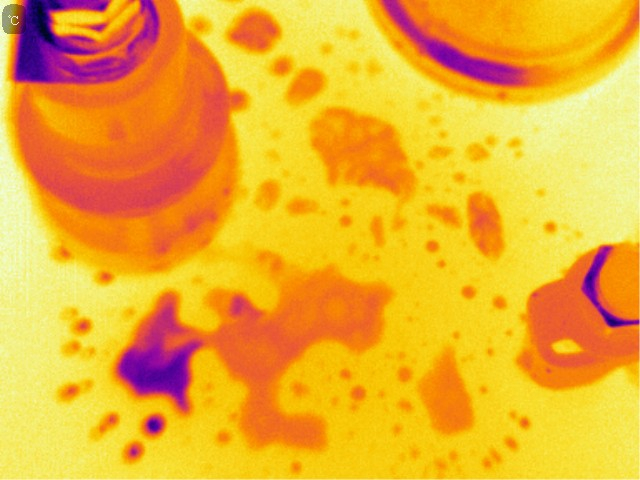Water: (112, 240, 398, 453), (312, 107, 417, 199), (417, 346, 477, 443), (54, 307, 89, 407), (462, 121, 526, 167), (465, 191, 507, 254), (270, 58, 327, 100), (429, 138, 470, 184), (317, 21, 369, 56), (229, 13, 277, 50), (540, 210, 584, 243), (425, 202, 463, 231), (82, 411, 121, 438), (429, 450, 464, 480), (504, 404, 538, 432), (348, 59, 397, 78), (112, 441, 146, 465), (266, 124, 288, 161), (289, 197, 320, 223), (483, 439, 503, 476), (254, 182, 281, 209), (214, 427, 244, 450), (284, 456, 312, 480), (501, 435, 530, 458), (396, 348, 413, 385), (138, 416, 169, 436), (394, 394, 415, 419), (371, 213, 389, 242), (230, 86, 248, 114), (385, 420, 405, 437), (335, 212, 354, 229), (492, 295, 505, 311), (462, 284, 474, 300), (424, 241, 439, 252)
